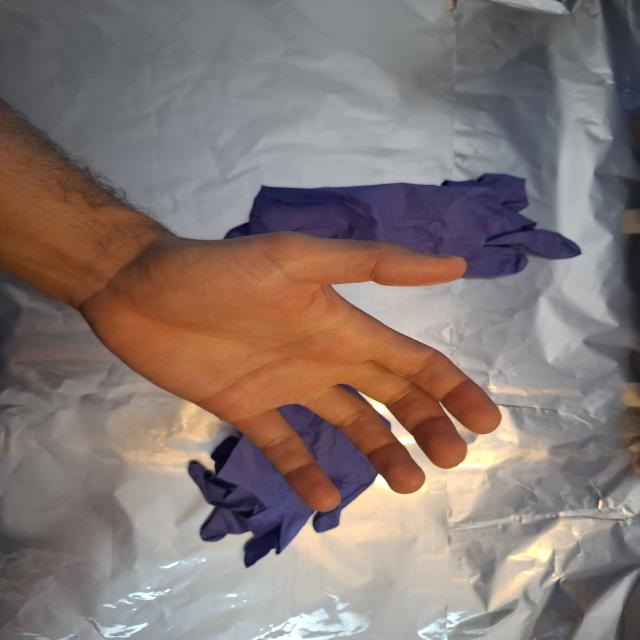glove_off: (76, 228, 504, 514)
